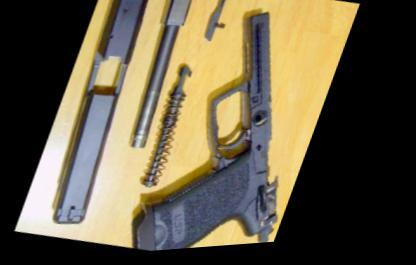pistol: (127, 0, 358, 254)
